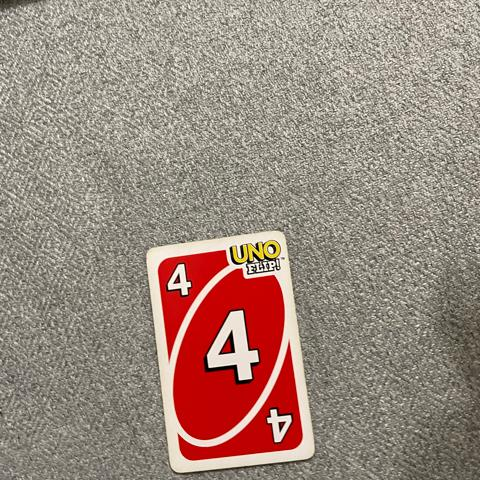lred-4: (158, 253, 205, 304)
